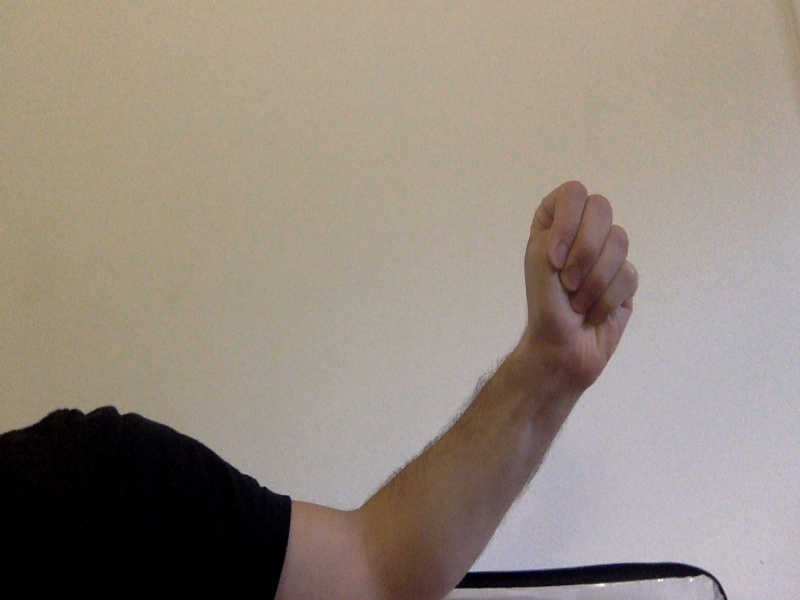0-hand: (524, 181, 638, 380)
